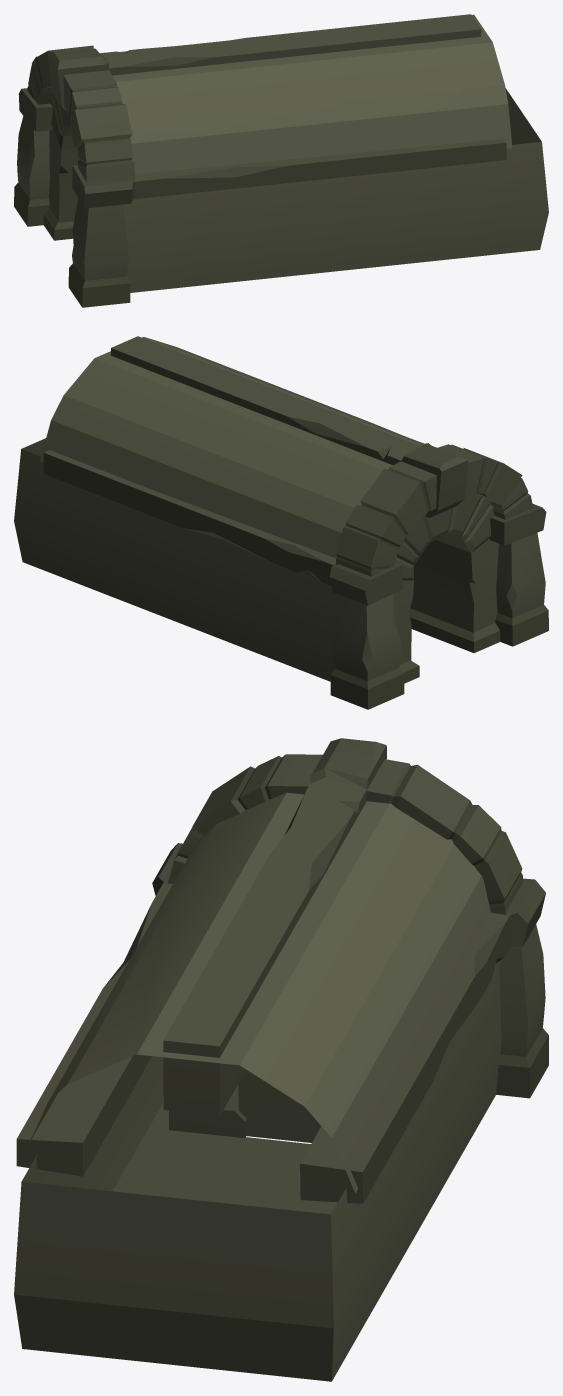
File: CurrencyBuilding.obj
3 renders of one model, top to bottom at view 1: azimuth 30°, elevation 25°; view 2: azimuth 150°, elevation 25°; view 3: azimuth 270°, elevation 25°, orthographic. The views are drawn at different scales.
Visible parts, largest first — view 1: Currencybuilding1; view 2: Currencybuilding1; view 3: Currencybuilding1.
Boxes of the visible parts, x1,y1,x2,y2 form: Currencybuilding1: [14, 14, 548, 307]; Currencybuilding1: [14, 336, 548, 709]; Currencybuilding1: [14, 738, 548, 1381].
Size of the model in its own units: 37.73 by 16.16 by 24.3.
1 material, 1 textured.
